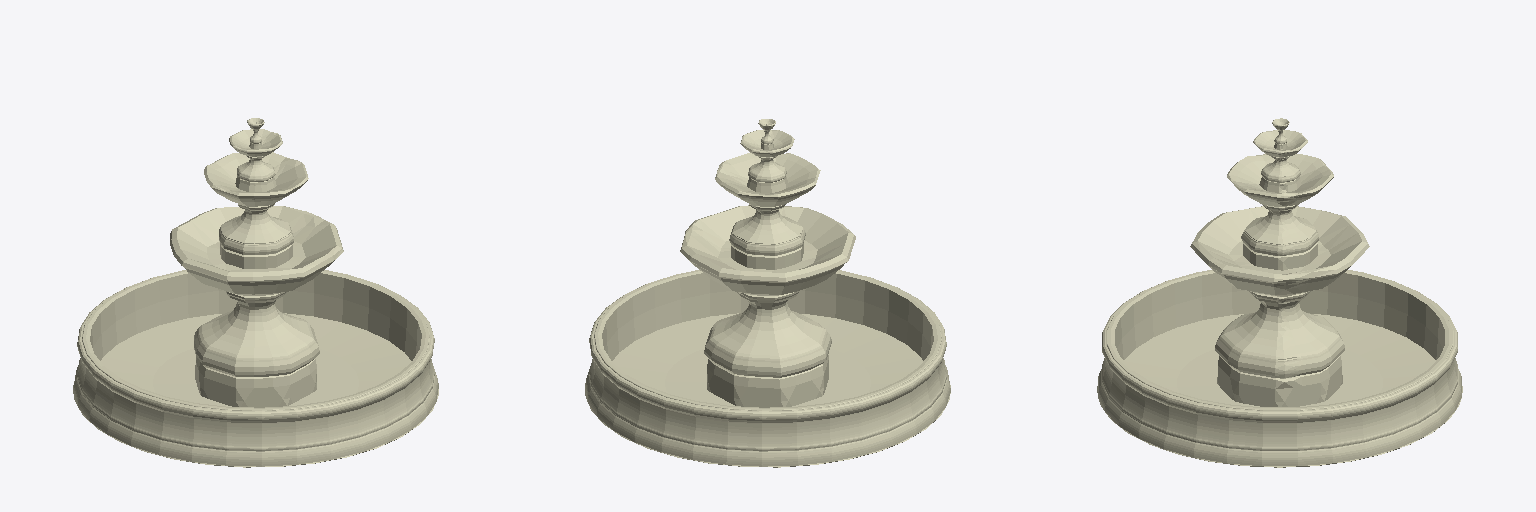
File: fountain_base.obj
3 views of the same model, side by side, from view 1: azimuth 30°, elevation 25°; view 2: azimuth 150°, elevation 25°; view 3: azimuth 270°, elevation 25° (orthographic).
Parts seen in each view (by area): view 1: fountain; view 2: fountain; view 3: fountain.
Part boxes in pixels (x1,y1,x2,y2): fountain: (73,118,438,467); fountain: (585,119,950,467); fountain: (1097,118,1462,467).
Size of the model in its own units: 185 by 150 by 185.